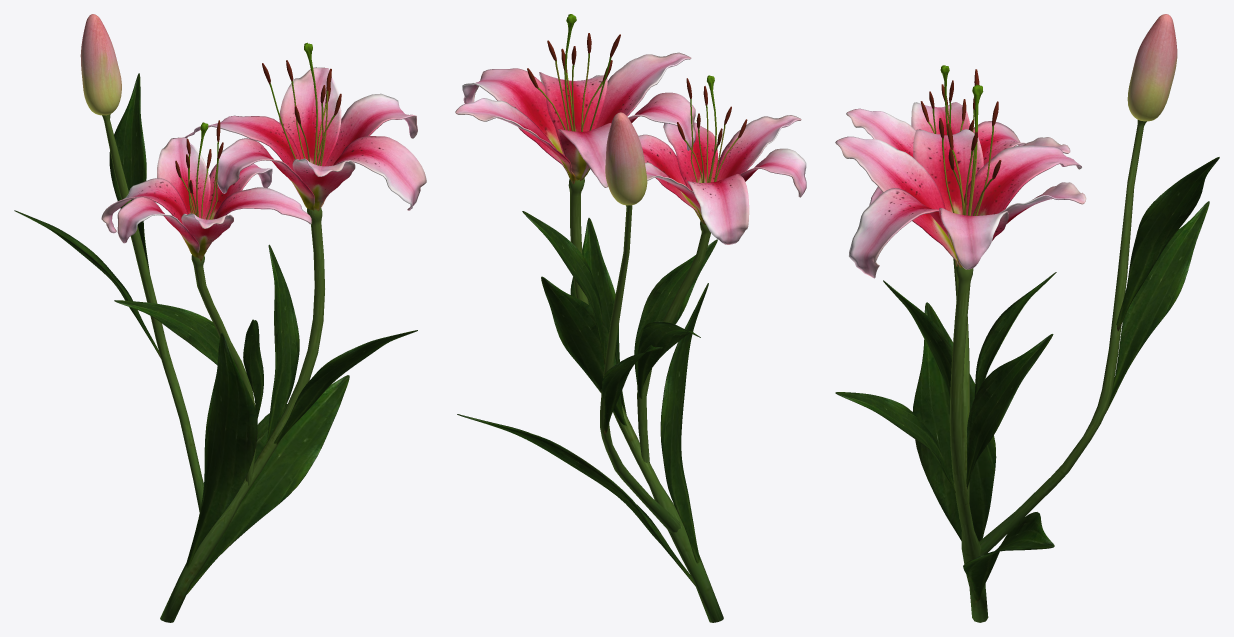
The model's file is lily.glb.
3 views of the same model, side by side, from view 1: azimuth 30°, elevation 25°; view 2: azimuth 150°, elevation 25°; view 3: azimuth 270°, elevation 25° (orthographic). The views are drawn at different scales.
Visible parts, largest first — view 1: backdrop, front_tepal_5, front_tepal_3, front_tepal_4, front_tepal_1, front_tepal_6, front_tepal_2, front_pistil; view 2: backdrop, front_tepal_4, front_tepal_2, front_tepal_3, front_tepal_6, front_tepal_5, front_tepal_1, front_pistil; view 3: backdrop, front_tepal_2, front_tepal_6, front_tepal_3, front_tepal_1, front_tepal_4, front_tepal_5, front_pistil.
Boxes of the visible parts, x1=… form: backdrop: x1=14, y1=14, x2=417, y2=622; front_tepal_5: x1=279, y1=67, x2=341, y2=166; front_tepal_3: x1=333, y1=136, x2=426, y2=210; front_tepal_4: x1=320, y1=93, x2=417, y2=207; front_tepal_1: x1=217, y1=138, x2=314, y2=210; front_tepal_6: x1=184, y1=115, x2=309, y2=209; front_tepal_2: x1=292, y1=158, x2=355, y2=211; front_pistil: x1=262, y1=42, x2=317, y2=164; backdrop: x1=457, y1=78, x2=806, y2=622; front_tepal_4: x1=462, y1=68, x2=570, y2=179; front_tepal_2: x1=595, y1=52, x2=691, y2=128; front_tepal_3: x1=539, y1=72, x2=607, y2=155; front_tepal_6: x1=558, y1=123, x2=611, y2=187; front_tepal_5: x1=455, y1=98, x2=575, y2=184; front_tepal_1: x1=579, y1=92, x2=695, y2=180; front_pistil: x1=564, y1=14, x2=620, y2=131; backdrop: x1=835, y1=14, x2=1219, y2=622; front_tepal_2: x1=835, y1=136, x2=958, y2=266; front_tepal_6: x1=964, y1=145, x2=1081, y2=215; front_tepal_3: x1=849, y1=188, x2=955, y2=278; front_tepal_1: x1=913, y1=129, x2=983, y2=214; front_tepal_4: x1=939, y1=208, x2=1008, y2=269; front_tepal_5: x1=972, y1=182, x2=1086, y2=268; front_pistil: x1=967, y1=69, x2=983, y2=215.
Bounding box in the file's own units: 0.4634 × 0.7874 × 0.4493.
Materials: 1 (1 with a texture image).
